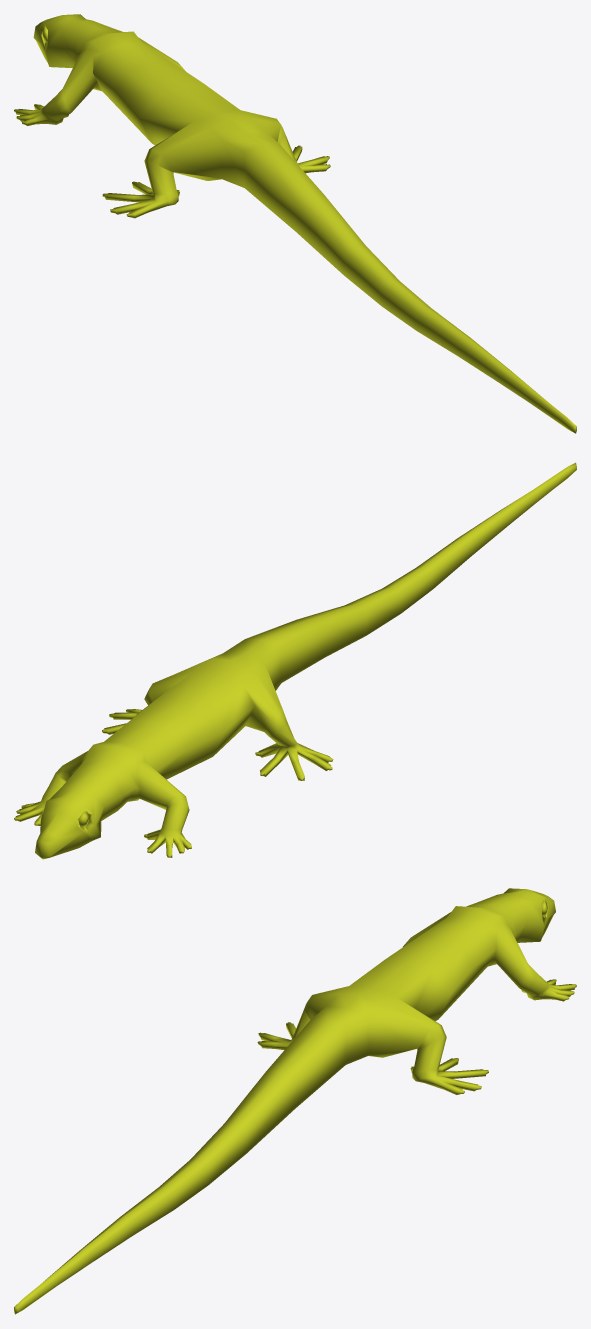
Rendered from lizard.gltf.
3 renders of one model, top to bottom at view 1: azimuth 30°, elevation 25°; view 2: azimuth 150°, elevation 25°; view 3: azimuth 330°, elevation 25°, orthographic.
Parts seen in each view (by area): view 1: Cube.001; view 2: Cube.001; view 3: Cube.001.
Part boxes in pixels (x1,y1,x2,y2): Cube.001: (14,14,576,433); Cube.001: (14,462,576,859); Cube.001: (14,888,576,1314).
Bounding box in the file's own units: 0.9119 × 0.3052 × 3.82.
